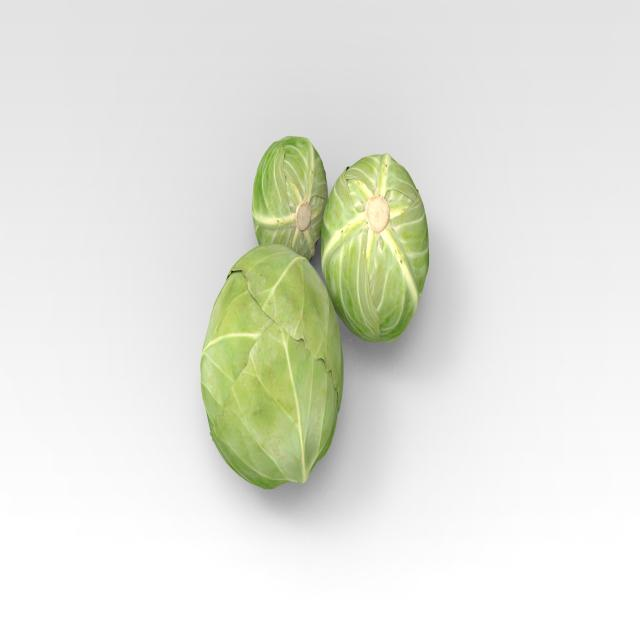cabbage: (198, 244, 347, 497), (318, 148, 433, 351), (251, 129, 329, 264)
